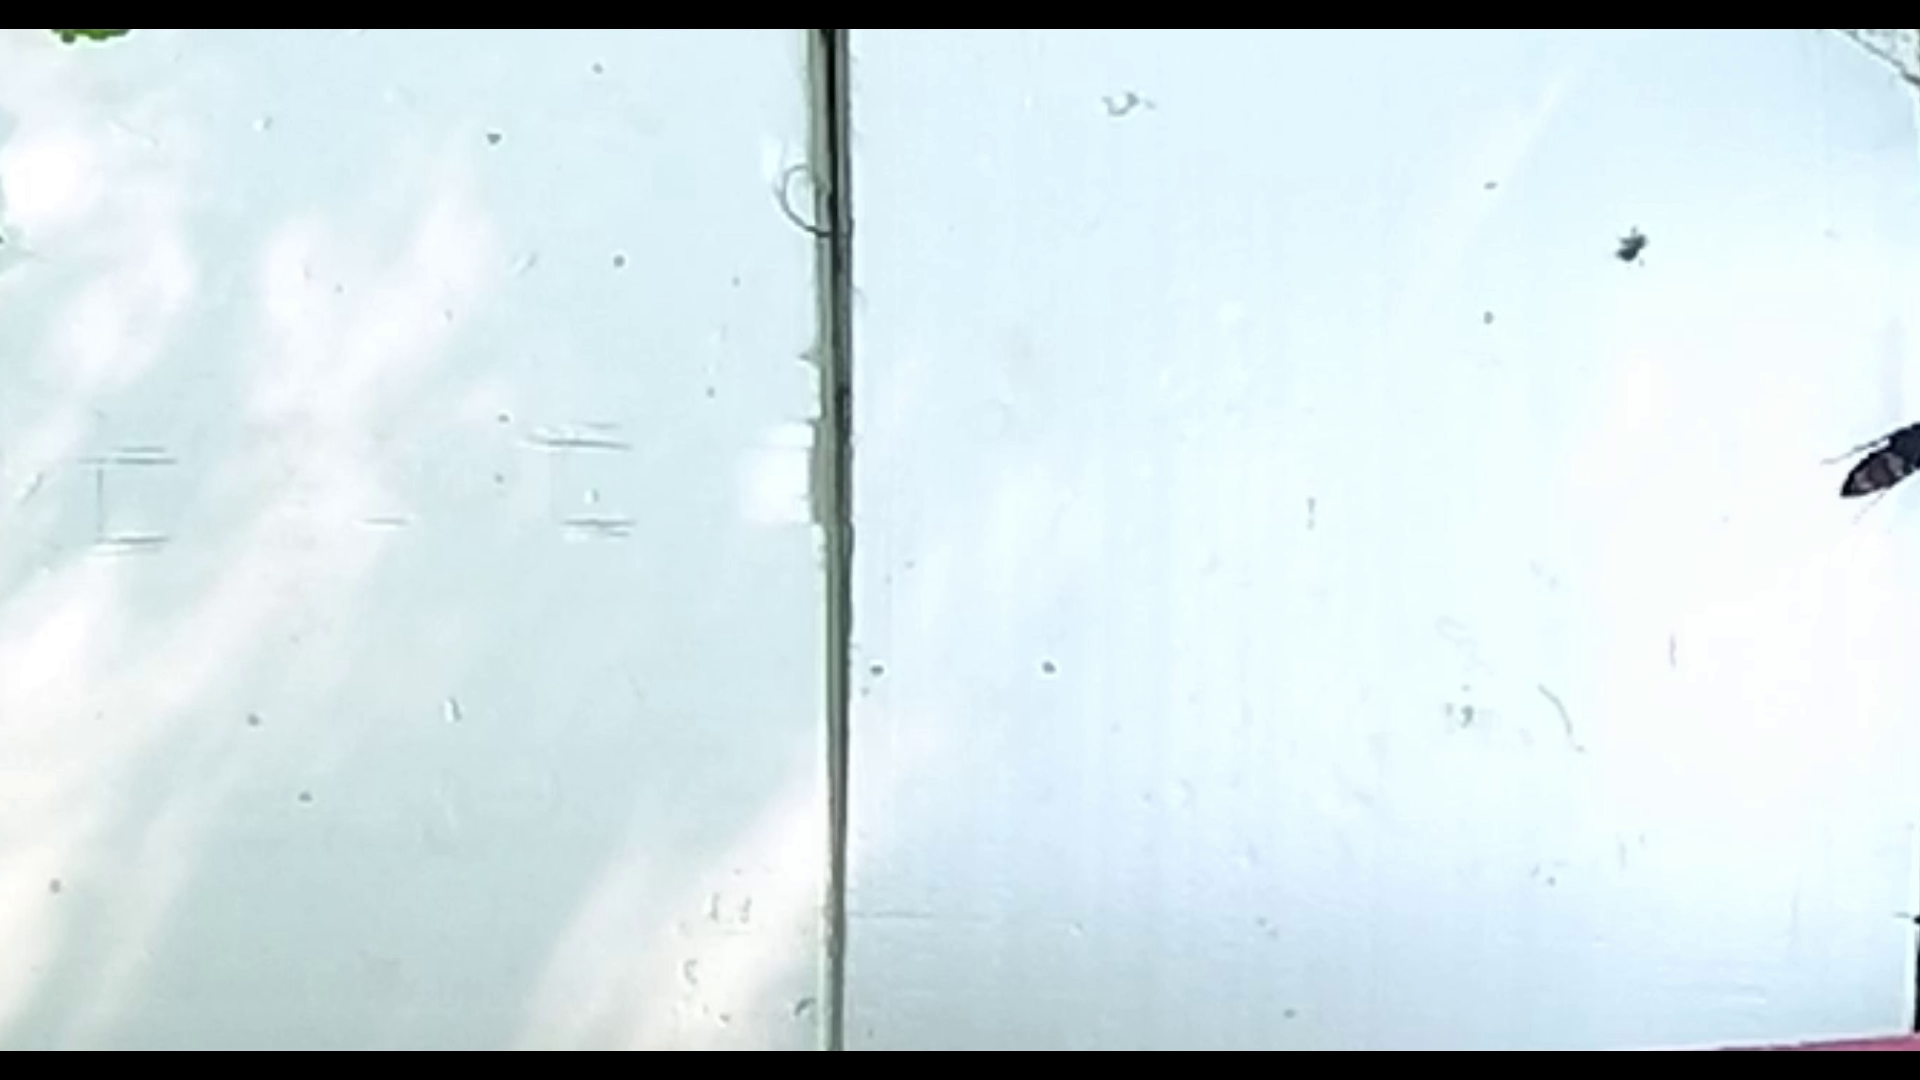Asian_hornets: (1812, 410, 1920, 526)
